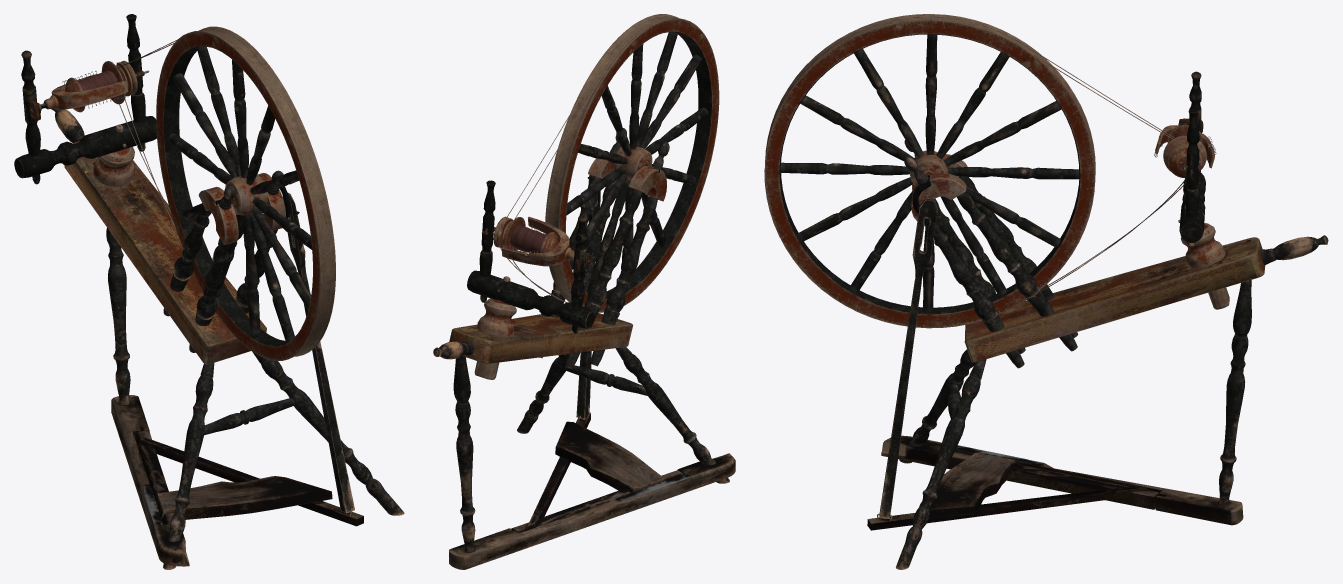
The model's file is spinning-wheel.glb.
3 views of the same model, side by side, from view 1: azimuth 30°, elevation 25°; view 2: azimuth 150°, elevation 25°; view 3: azimuth 270°, elevation 25° (orthographic). The views are drawn at different scales.
Visible parts, largest first — view 1: spinning_wheel_01; view 2: spinning_wheel_01; view 3: spinning_wheel_01.
Part boxes in pixels (<box>): spinning_wheel_01: <box>14,14,404,569</box>; spinning_wheel_01: <box>433,14,735,569</box>; spinning_wheel_01: <box>764,14,1328,569</box>.
Size of the model in its own units: 0.4894 by 0.9659 by 1.03.
Materials: 1 (1 with a texture image).
